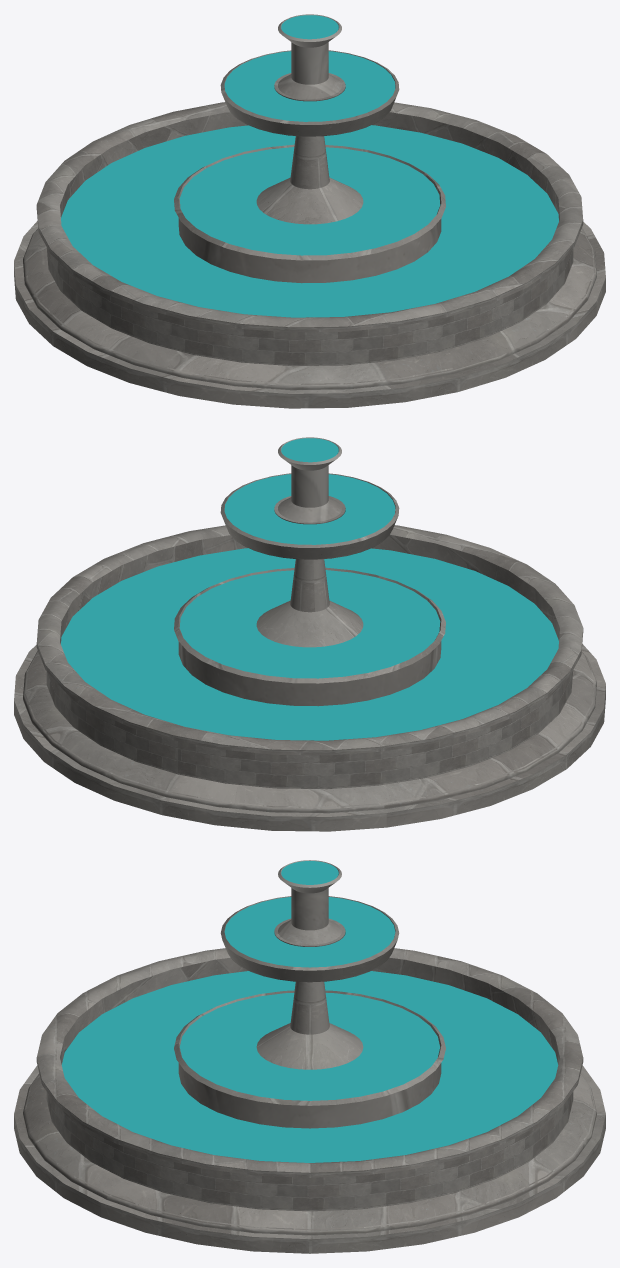
Rendered from FountainCity.fbx.
3 renders of one model, top to bottom at view 1: azimuth 30°, elevation 25°; view 2: azimuth 150°, elevation 25°; view 3: azimuth 270°, elevation 25°, orthographic.
Visible parts, largest first — view 1: Fountain, Water Fountain; view 2: Fountain, Water Fountain; view 3: Fountain, Water Fountain.
Part boxes in pixels (left/top/right/bottom): Fountain: left=14, top=14, right=605, bottom=408; Water Fountain: left=61, top=15, right=558, bottom=317; Fountain: left=14, top=437, right=605, bottom=831; Water Fountain: left=61, top=438, right=558, bottom=740; Fountain: left=14, top=860, right=605, bottom=1253; Water Fountain: left=61, top=861, right=558, bottom=1162.
Size of the model in its own units: 901 by 430 by 901.
